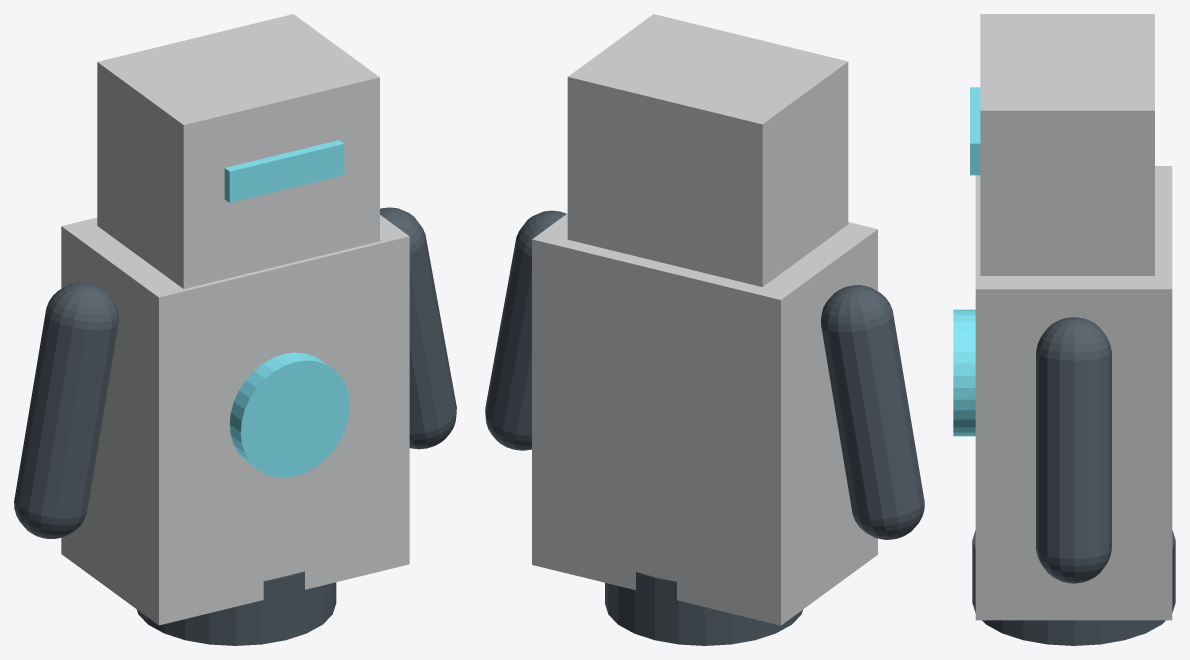
The model's file is robot-totem.glb.
The picture shows the model from 3 angles, left to right: view 1: azimuth 30°, elevation 25°; view 2: azimuth 150°, elevation 25°; view 3: azimuth 270°, elevation 25°; orthographic projection.
Parts seen in each view (by area): view 1: robot-totem-0, robot-totem-1, robot-totem-5, robot-totem-4, robot-totem-6, robot-totem-2, robot-totem-3; view 2: robot-totem-0, robot-totem-1, robot-totem-5, robot-totem-6, robot-totem-2; view 3: robot-totem-0, robot-totem-1, robot-totem-6, robot-totem-2, robot-totem-4, robot-totem-3.
Boxes of the visible parts, <box> form: robot-totem-0: <box>61,215,409,625</box>; robot-totem-1: <box>97,14,379,288</box>; robot-totem-5: <box>14,282,118,538</box>; robot-totem-4: <box>229,352,349,477</box>; robot-totem-6: <box>380,207,456,449</box>; robot-totem-2: <box>136,571,336,645</box>; robot-totem-3: <box>224,140,344,202</box>; robot-totem-0: <box>532,213,877,625</box>; robot-totem-1: <box>567,14,848,286</box>; robot-totem-5: <box>821,285,924,539</box>; robot-totem-6: <box>485,210,566,450</box>; robot-totem-2: <box>605,572,802,645</box>; robot-totem-0: <box>975,166,1172,620</box>; robot-totem-1: <box>980,14,1154,275</box>; robot-totem-6: <box>1036,317,1111,583</box>; robot-totem-2: <box>972,530,1175,645</box>; robot-totem-4: <box>953,309,975,436</box>; robot-totem-3: <box>970,87,980,175</box>.
Bounding box in the file's own units: 1.59 × 1.88 × 0.7.
